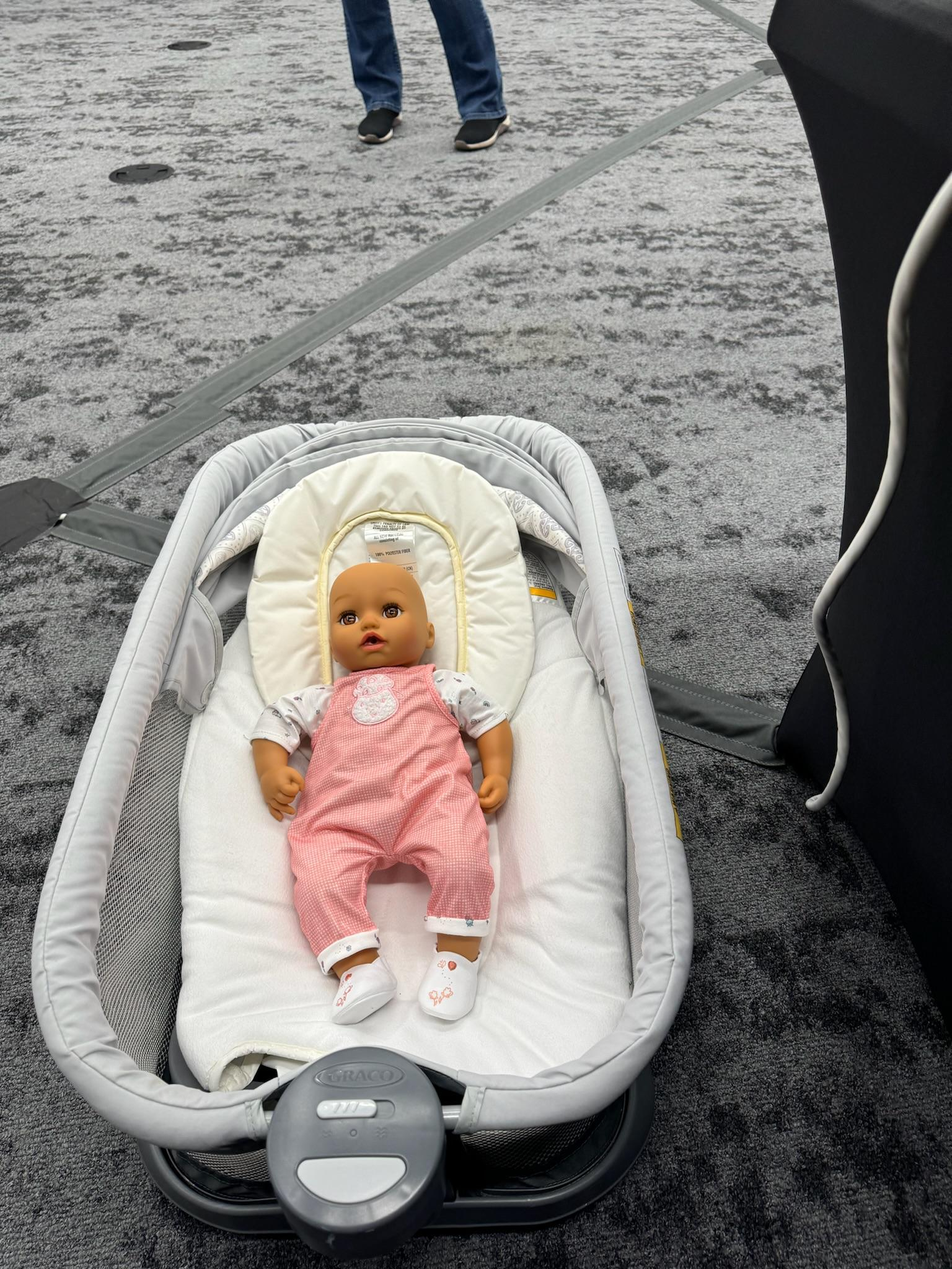baby: (236, 553, 524, 1032)
